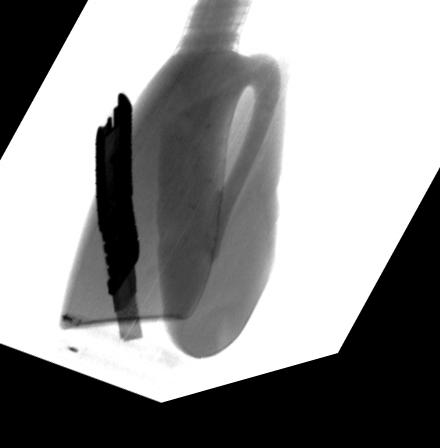Knife: (95, 97, 144, 348)
